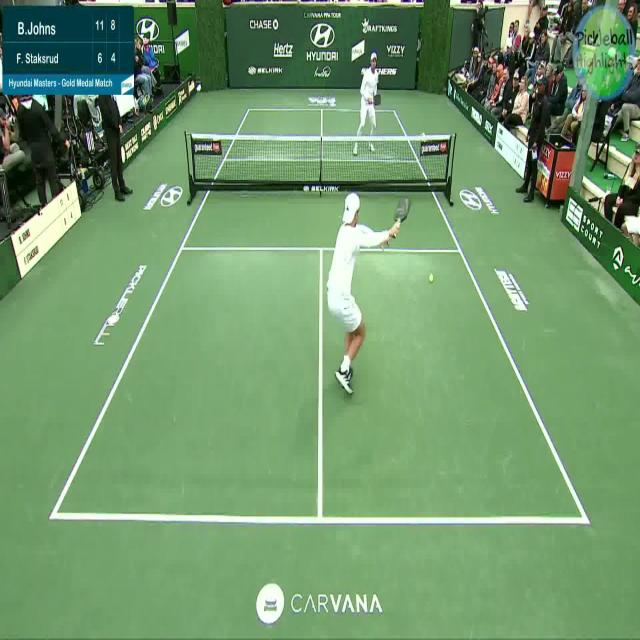ball: (428, 270, 435, 284)
